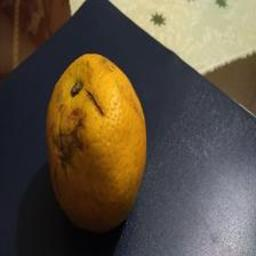Orange Semifresh: (36, 70, 166, 247)
